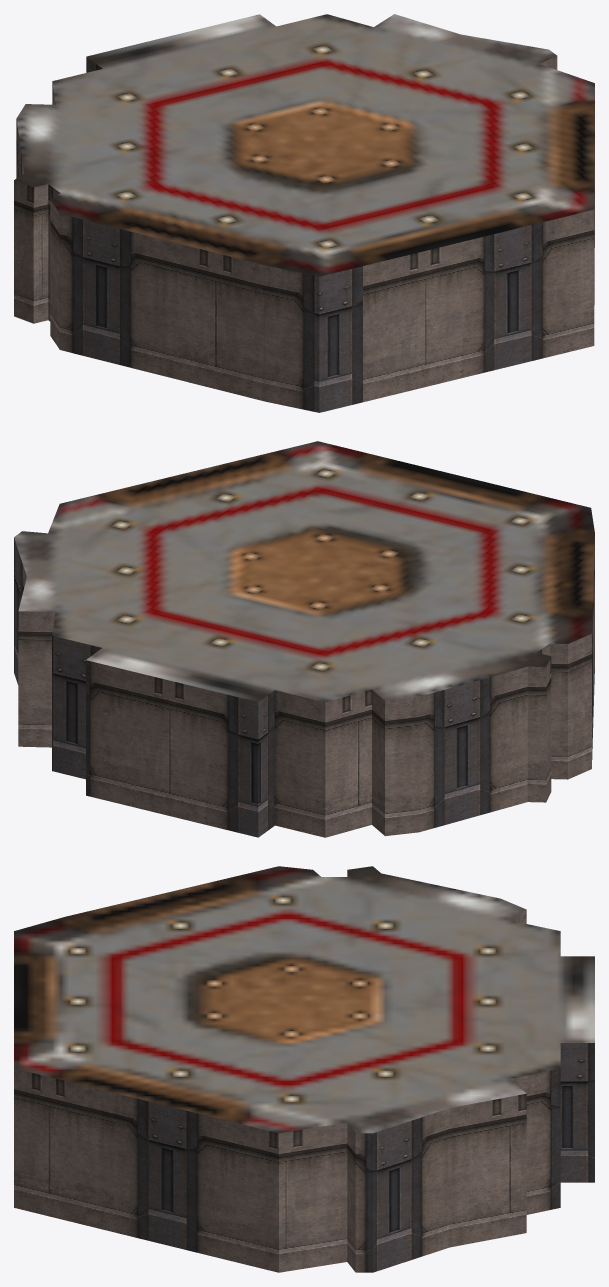
File: bsealed_medium_a_35.glb
The picture shows the model from 3 angles, top to bottom: view 1: azimuth 30°, elevation 25°; view 2: azimuth 150°, elevation 25°; view 3: azimuth 270°, elevation 25°; orthographic projection. The views are drawn at different scales.
Parts seen in each view (by area): view 1: buildings/saxarba/bsealed_medium/bsealed_medium_a_35; view 2: buildings/saxarba/bsealed_medium/bsealed_medium_a_35; view 3: buildings/saxarba/bsealed_medium/bsealed_medium_a_35.
Boxes of the visible parts, x1,y1,x2,y2 form: buildings/saxarba/bsealed_medium/bsealed_medium_a_35: [14, 14, 594, 412]; buildings/saxarba/bsealed_medium/bsealed_medium_a_35: [14, 441, 594, 837]; buildings/saxarba/bsealed_medium/bsealed_medium_a_35: [14, 866, 594, 1272].
Bounding box in the file's own units: 74 × 18 × 68.
